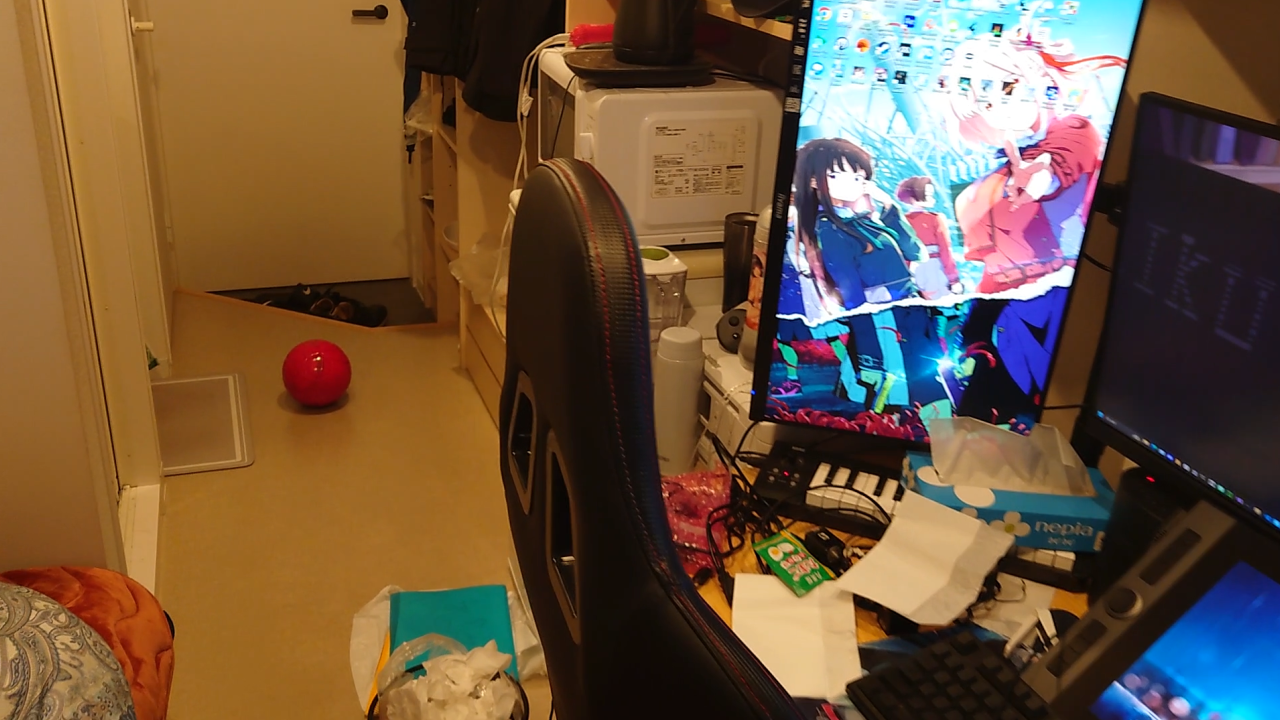red: (280, 339, 352, 408)
